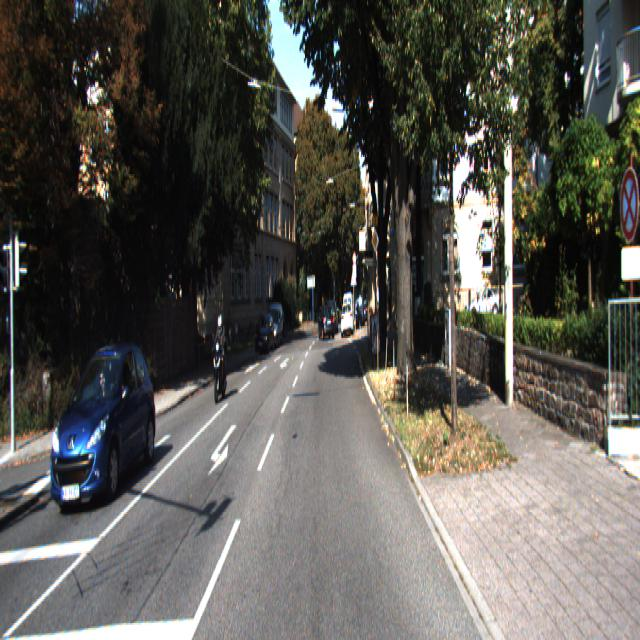Car: (46, 334, 156, 516), (210, 309, 231, 403), (264, 295, 284, 345), (253, 311, 274, 356), (319, 304, 334, 341), (341, 301, 353, 339)
